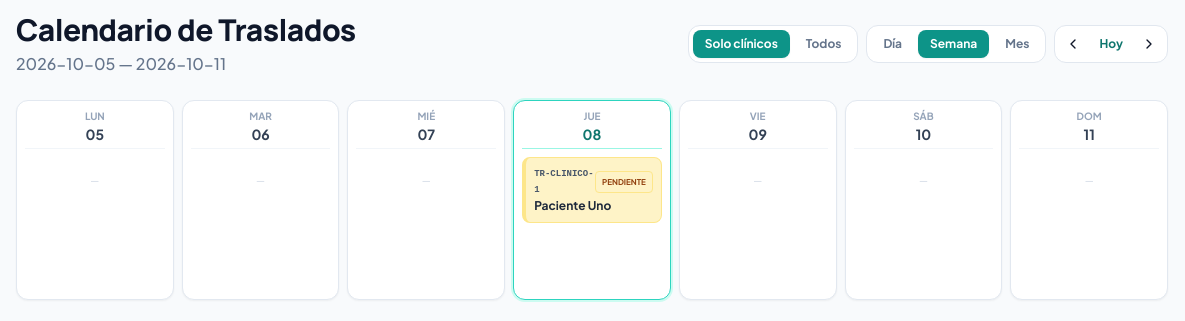
Test case: filtro del calendario del gestor de camas › "Todos" muestra también los no clínicos, y "Solo clínicos" los vuelve a ocultar
The image size is (1185, 321).
Click the button "Todos" at (824, 44), box top-left (794, 30), bottom-right (853, 58)
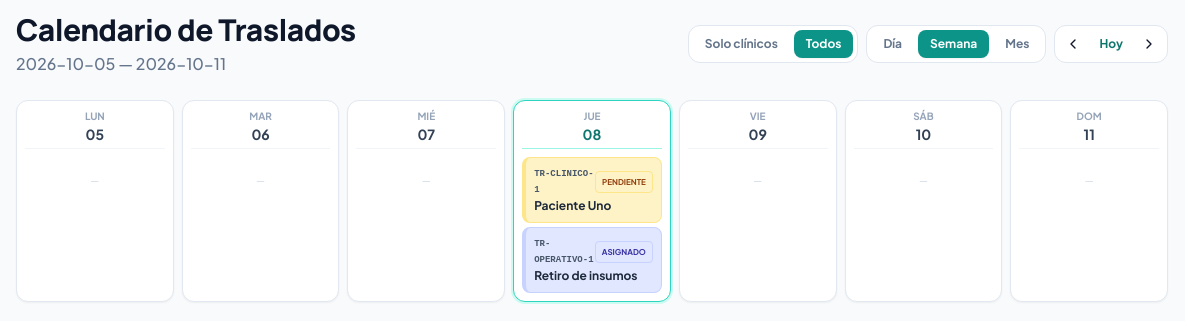
Expected: the text "TR-CLINICO-1" is shown, top-left (534, 166), bottom-right (595, 198)
Result: the text "TR-OPERATIVO-1" is shown at top-left (534, 236), bottom-right (595, 268)
Click the button "Solo clínicos" at (741, 44), box top-left (693, 30), bottom-right (790, 58)
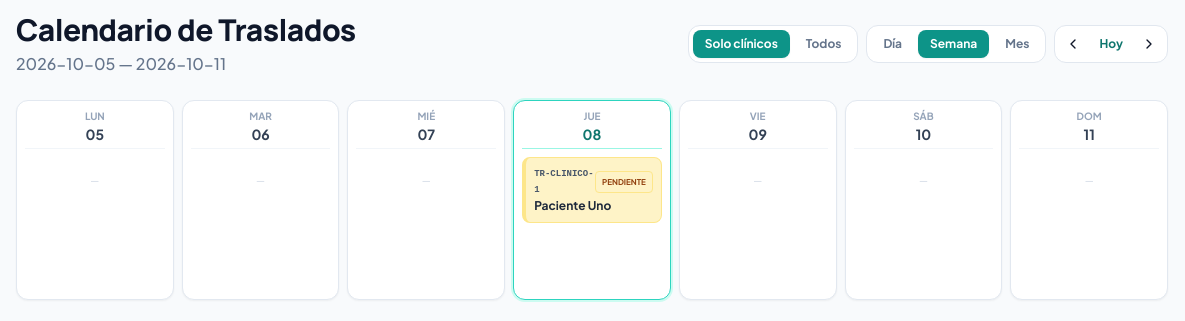
Expected: the text "TR-CLINICO-1" is shown, top-left (534, 166), bottom-right (595, 198)
Result: the text "TR-OPERATIVO-1" is gone
